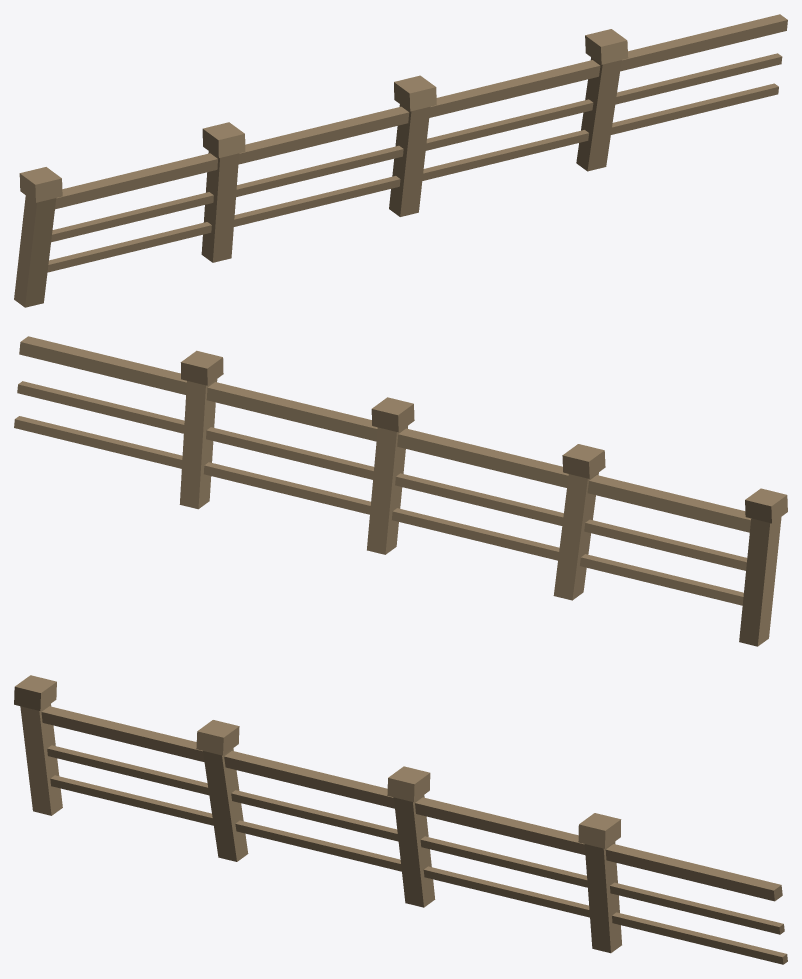
The model's file is LightWoodWallLargeGuardRail1.fbx.
3 views of the same model, one above another, from view 1: azimuth 30°, elevation 25°; view 2: azimuth 150°, elevation 25°; view 3: azimuth 330°, elevation 25° (orthographic).
Visible parts, largest first — view 1: LightWoodWallLargeGuardRail1; view 2: LightWoodWallLargeGuardRail1; view 3: LightWoodWallLargeGuardRail1.
Boxes of the visible parts, x1,y1,x2,y2 form: LightWoodWallLargeGuardRail1: [14, 14, 787, 307]; LightWoodWallLargeGuardRail1: [14, 336, 787, 646]; LightWoodWallLargeGuardRail1: [14, 675, 787, 964].
Bounding box in the file's own units: 785 × 133 × 47.19.
